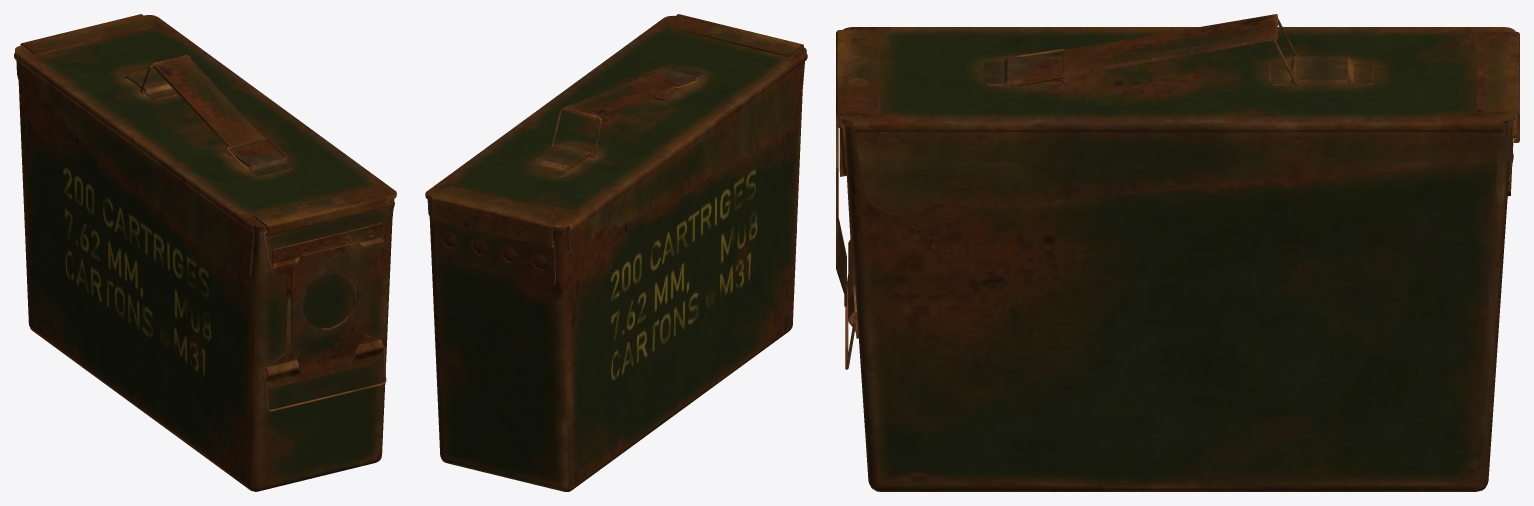
Rendered from ammo.glb.
3 views of the same model, side by side, from view 1: azimuth 30°, elevation 25°; view 2: azimuth 150°, elevation 25°; view 3: azimuth 270°, elevation 25° (orthographic). The views are drawn at different scales.
Visible parts, largest first — view 1: ammo; view 2: ammo; view 3: ammo.
Part boxes in pixels (x1,y1,x2,y2): ammo: (14, 14, 396, 491); ammo: (425, 14, 807, 491); ammo: (836, 14, 1519, 491).
Size of the model in its own units: 0.0865 by 0.1775 by 0.2579.
1 material, 1 textured.
